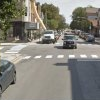crosswalk: (23, 54, 100, 58)
